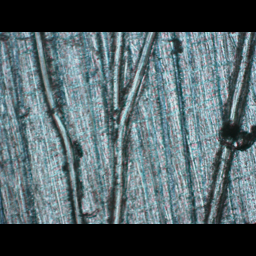d: (95, 32, 161, 224), (28, 32, 89, 224), (202, 32, 256, 223)
